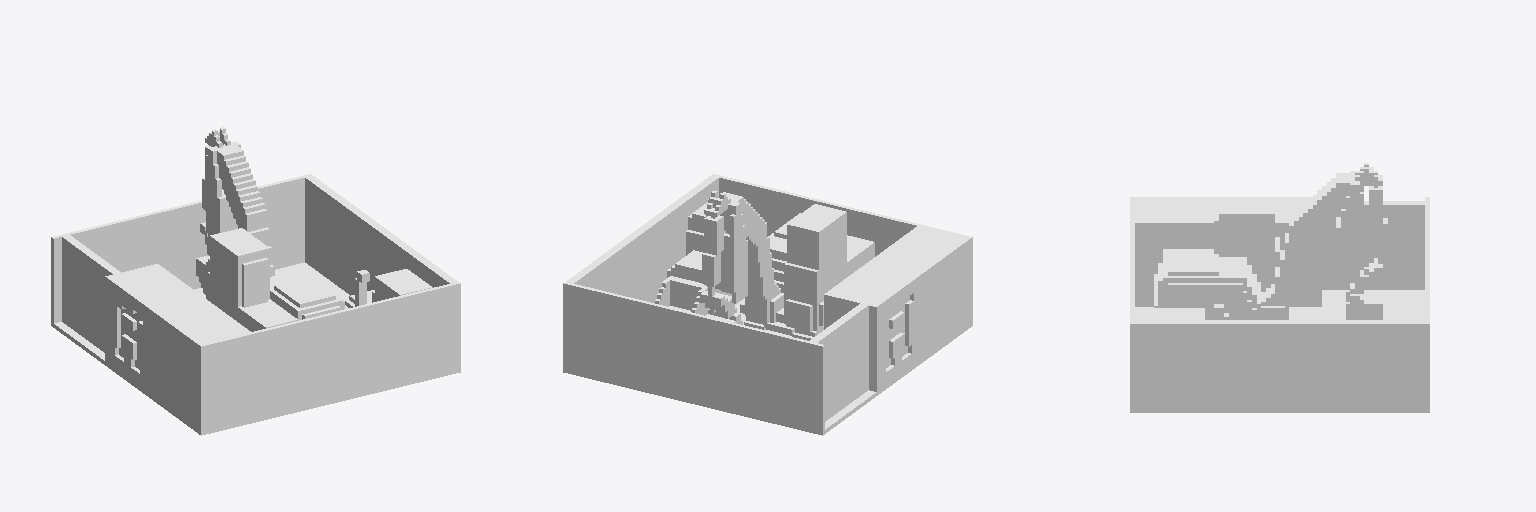
File: industrial-1.obj
3 renders of one model, left to right at view 1: azimuth 30°, elevation 25°; view 2: azimuth 150°, elevation 25°; view 3: azimuth 270°, elevation 25°, orthographic.
Parts seen in each view (by area): view 1: object 1; view 2: object 1; view 3: object 1.
Part boxes in pixels (x1,y1,x2,y2): object 1: (51,127,460,435); object 1: (563,174,972,435); object 1: (1130,163,1429,412).
Size of the model in its own units: 6.4 by 4.4 by 6.4.